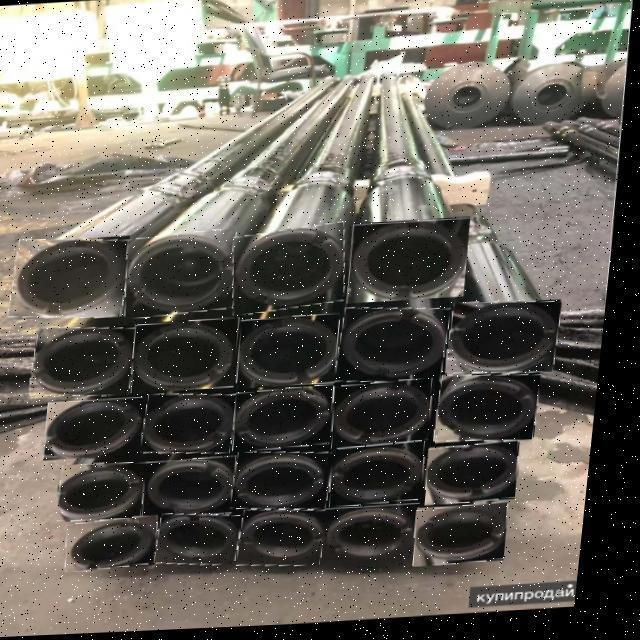pipe: (239, 225, 351, 318), (353, 222, 475, 307), (132, 230, 241, 320), (14, 240, 137, 318), (343, 311, 457, 386), (139, 320, 246, 395), (454, 307, 568, 377), (245, 316, 347, 391), (37, 328, 145, 397), (341, 382, 441, 452), (443, 380, 549, 445), (243, 387, 342, 454), (341, 445, 435, 511), (53, 399, 151, 460), (333, 508, 431, 569), (426, 507, 519, 571), (241, 454, 343, 512), (437, 445, 528, 509), (153, 458, 246, 520), (150, 396, 246, 455), (78, 517, 169, 573), (248, 512, 339, 568), (68, 464, 156, 521), (166, 515, 252, 567)
